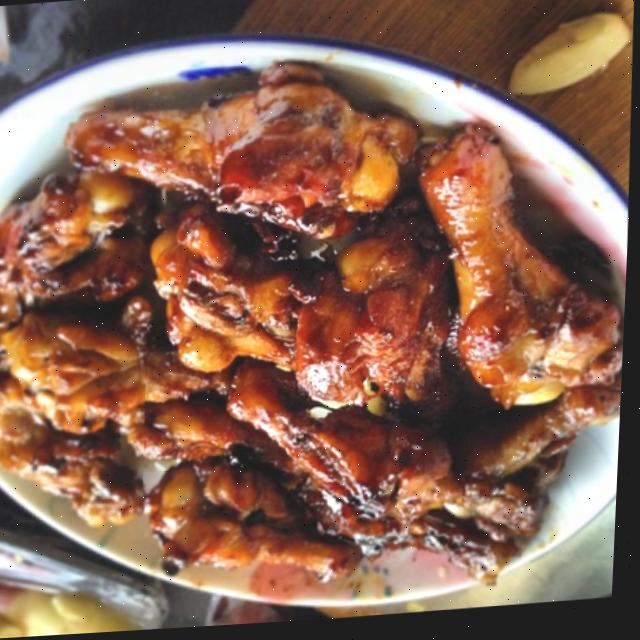鸡肉料理 含炸鸡: (0, 30, 638, 623)
